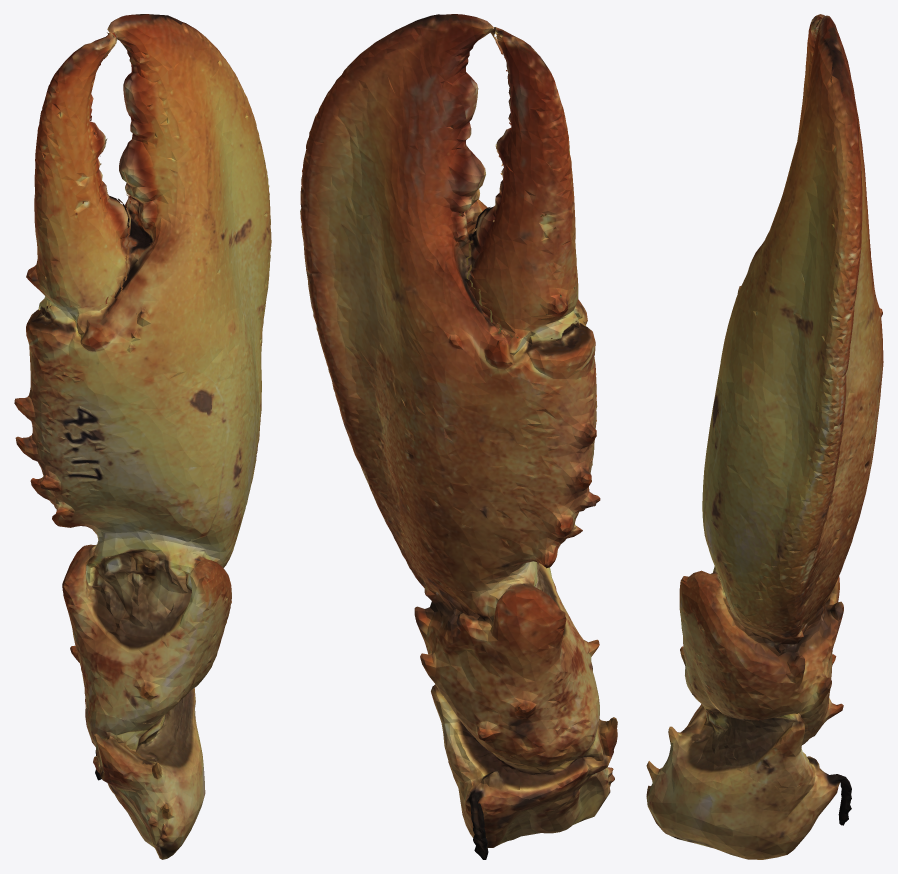
Rendered from morebrokenclaws.fbx.
3 renders of one model, left to right at view 1: azimuth 30°, elevation 25°; view 2: azimuth 150°, elevation 25°; view 3: azimuth 270°, elevation 25°, orthographic. The views are drawn at different scales.
Parts seen in each view (by area): view 1: crab_claw_43.17, crab_claw_43.002, crab_claw_43.001; view 2: crab_claw_43.17, crab_claw_43.002, crab_claw_43.001; view 3: crab_claw_43.17, crab_claw_43.002, crab_claw_43.001.
Part boxes in pixels (box(x1,y1,x2,y2)): crab_claw_43.17: box(14, 14, 271, 859); crab_claw_43.002: box(62, 545, 231, 727); crab_claw_43.001: box(26, 32, 129, 312); crab_claw_43.17: box(300, 14, 617, 859); crab_claw_43.002: box(411, 562, 599, 765); crab_claw_43.001: box(460, 27, 578, 339); crab_claw_43.17: box(646, 15, 883, 859); crab_claw_43.002: box(679, 566, 843, 787); crab_claw_43.001: box(797, 14, 824, 140).
Bounding box in the file's own units: 3440 × 9879 × 2537.
Materials: 1 (1 with a texture image).
